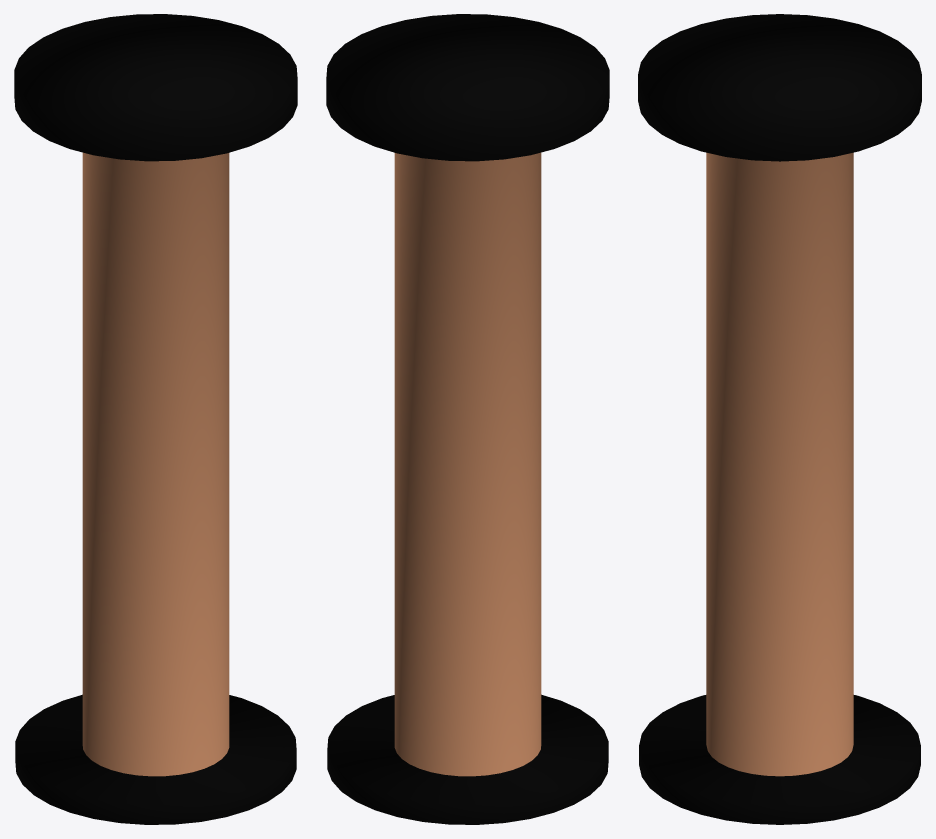
File: ElectricLoop.fbx
3 views of the same model, side by side, from view 1: azimuth 30°, elevation 25°; view 2: azimuth 150°, elevation 25°; view 3: azimuth 270°, elevation 25° (orthographic).
Parts seen in each view (by area): view 1: Cylinder; view 2: Cylinder; view 3: Cylinder.
Part boxes in pixels (box(x1,y1,x2,y2)): Cylinder: box(14, 14, 297, 824); Cylinder: box(326, 14, 609, 824); Cylinder: box(638, 14, 921, 824).
Bounding box in the file's own units: 138 × 371 × 138.
